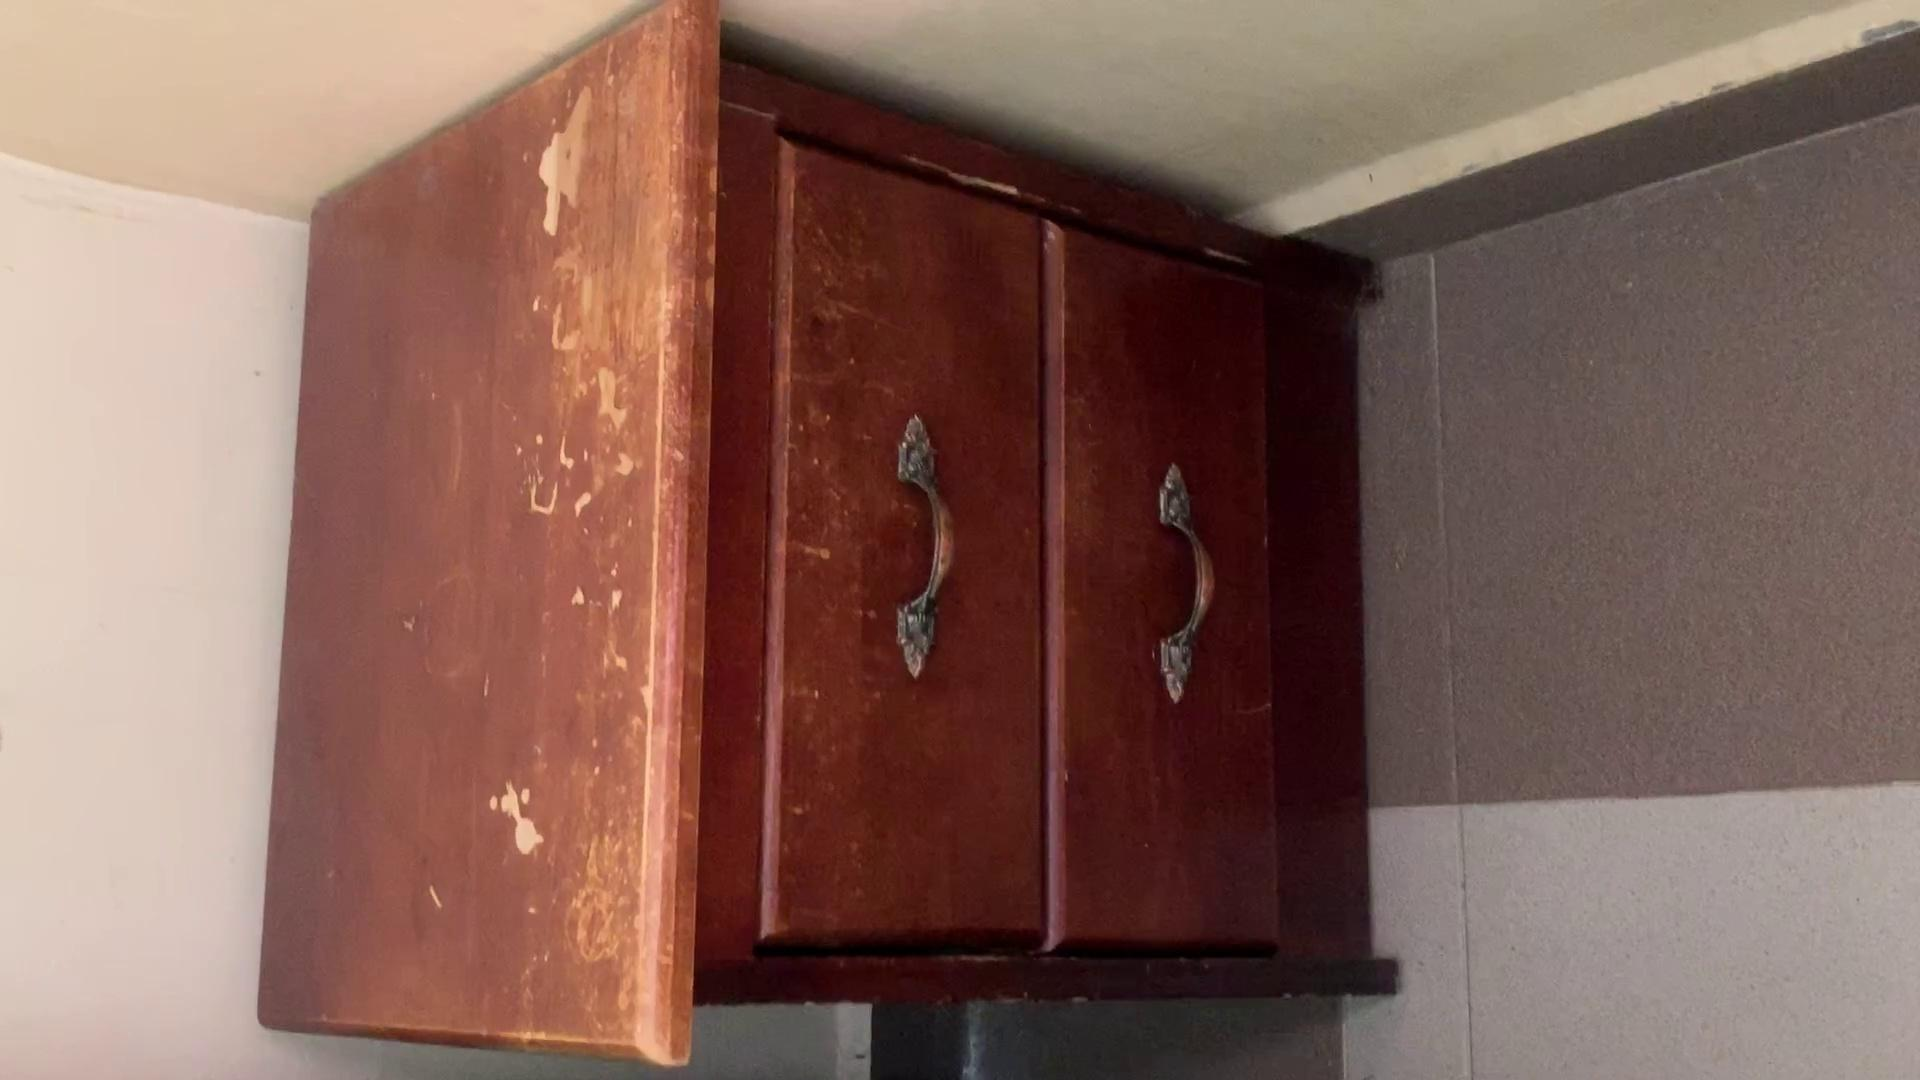cabinet_door: (761, 171, 1031, 978), (1087, 258, 1283, 977)
handle: (884, 409, 959, 688), (1134, 469, 1221, 700)
